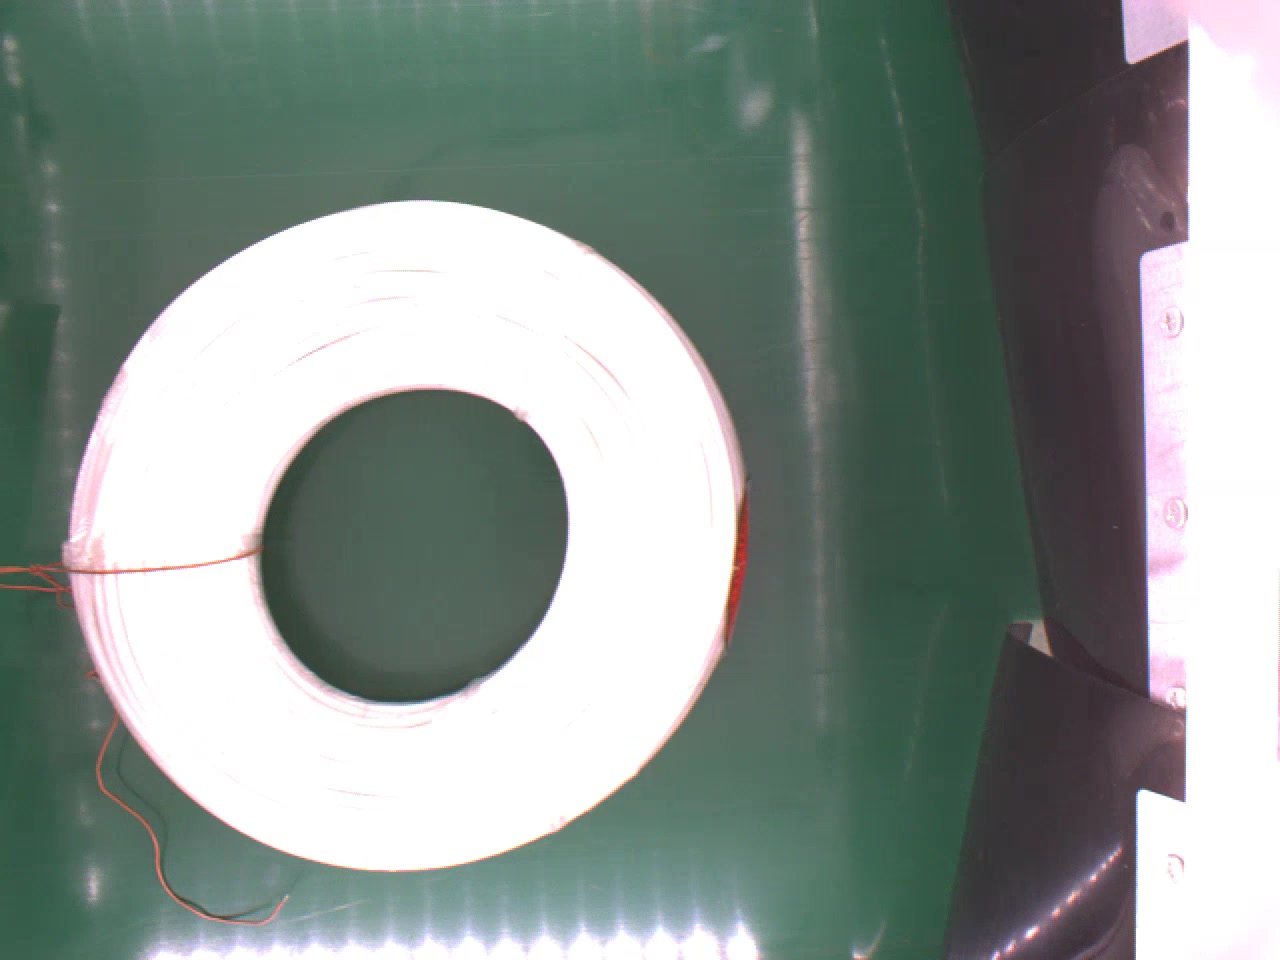white: (71, 191, 746, 873)
